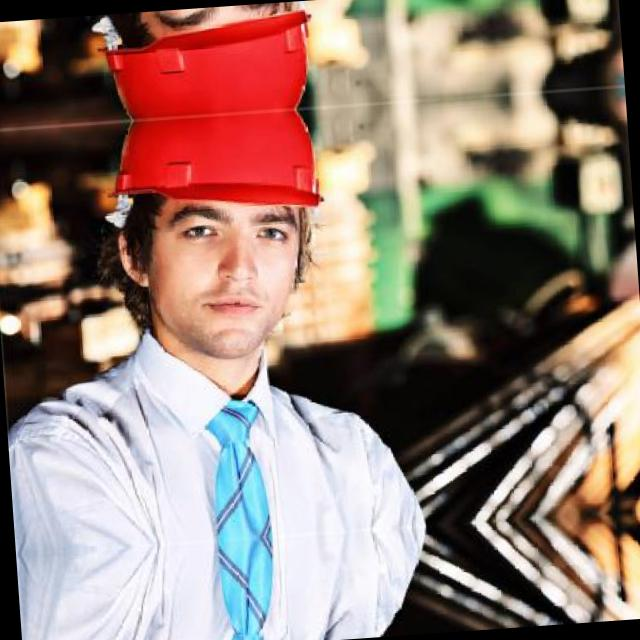helmet: (80, 104, 357, 414), (72, 0, 337, 124)
